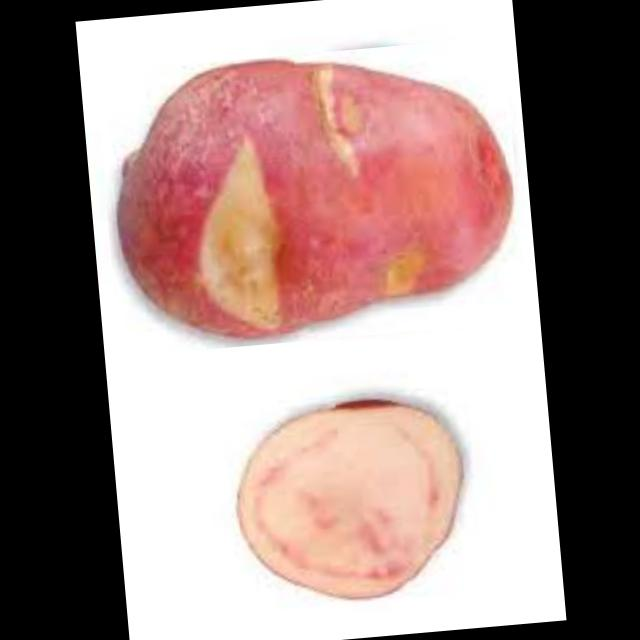Defected potato: (95, 35, 528, 356)
